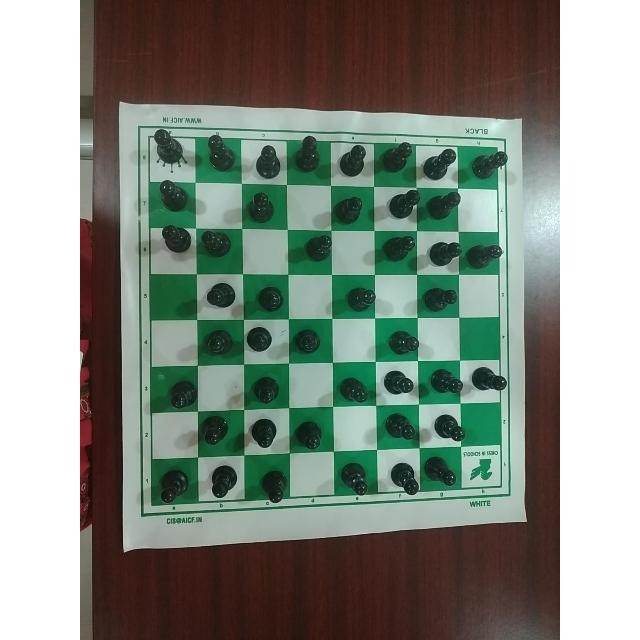black-pawn: (421, 232, 463, 270), (468, 147, 508, 185), (201, 129, 235, 173), (152, 469, 191, 506), (419, 281, 460, 316), (151, 127, 185, 169), (387, 461, 421, 503), (335, 462, 373, 499), (378, 137, 414, 176), (198, 280, 238, 315), (420, 145, 456, 183), (153, 177, 191, 213), (465, 234, 503, 270), (198, 328, 238, 362), (468, 363, 509, 396), (292, 135, 324, 177), (385, 188, 421, 225), (425, 366, 465, 399), (206, 464, 239, 504), (157, 222, 193, 258), (249, 281, 286, 316), (431, 413, 469, 447), (376, 229, 415, 262), (428, 188, 464, 223), (339, 281, 376, 315), (302, 230, 335, 268), (162, 379, 200, 412), (334, 371, 372, 404), (422, 455, 460, 488), (250, 141, 281, 181), (199, 413, 230, 453), (291, 414, 326, 449), (246, 417, 282, 451), (384, 409, 418, 445), (332, 191, 364, 229), (338, 141, 368, 181), (380, 366, 416, 399), (256, 468, 289, 504), (246, 190, 278, 226), (291, 325, 324, 359), (250, 376, 285, 408), (198, 226, 229, 262), (246, 328, 278, 361), (387, 327, 420, 357)
